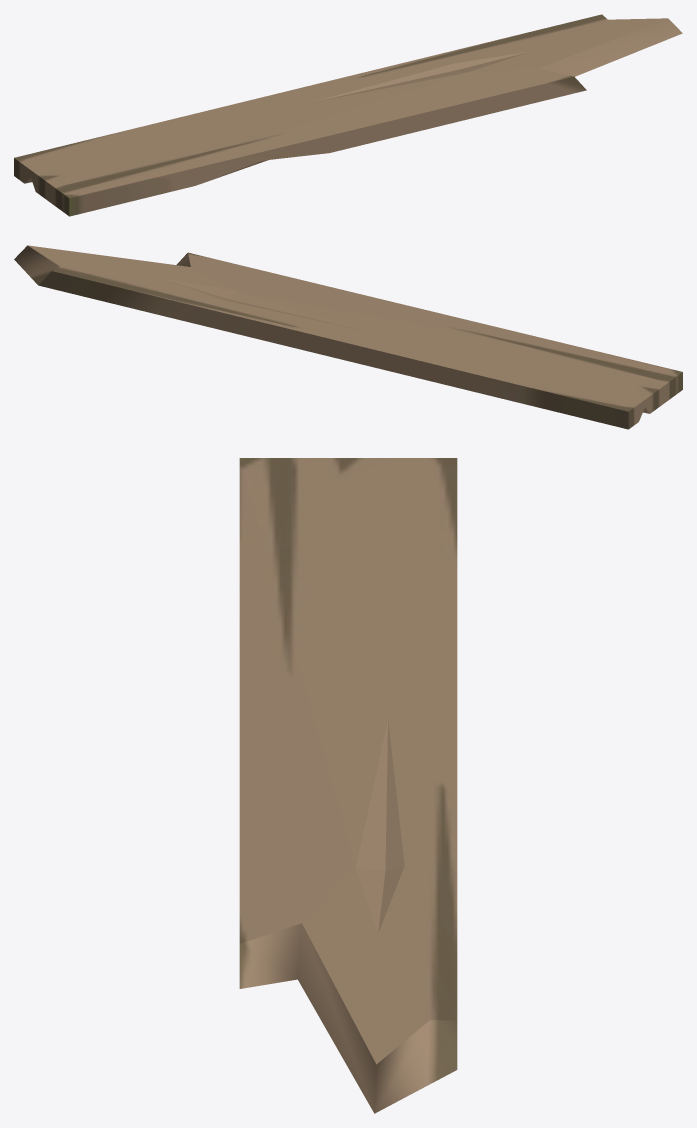
Rendered from jungle_SM_Prop_Plank_04.gltf.
The picture shows the model from 3 angles, top to bottom: view 1: azimuth 30°, elevation 25°; view 2: azimuth 150°, elevation 25°; view 3: azimuth 270°, elevation 25°; orthographic projection. The views are drawn at different scales.
Visible parts, largest first — view 1: SM_Prop_Plank_04; view 2: SM_Prop_Plank_04; view 3: SM_Prop_Plank_04.
Part boxes in pixels (x1,y1,x2,y2): SM_Prop_Plank_04: (14,14,682,216); SM_Prop_Plank_04: (14,245,682,429); SM_Prop_Plank_04: (239,458,457,1113).
Size of the model in its own units: 3.06 by 0.082 by 0.4537.
Materials: 1 (1 with a texture image).
